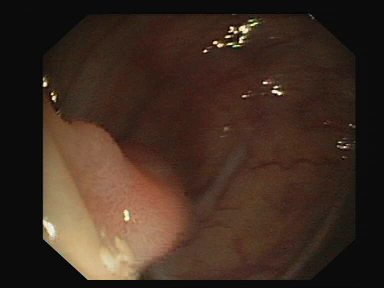polyp: (50, 103, 203, 281)
